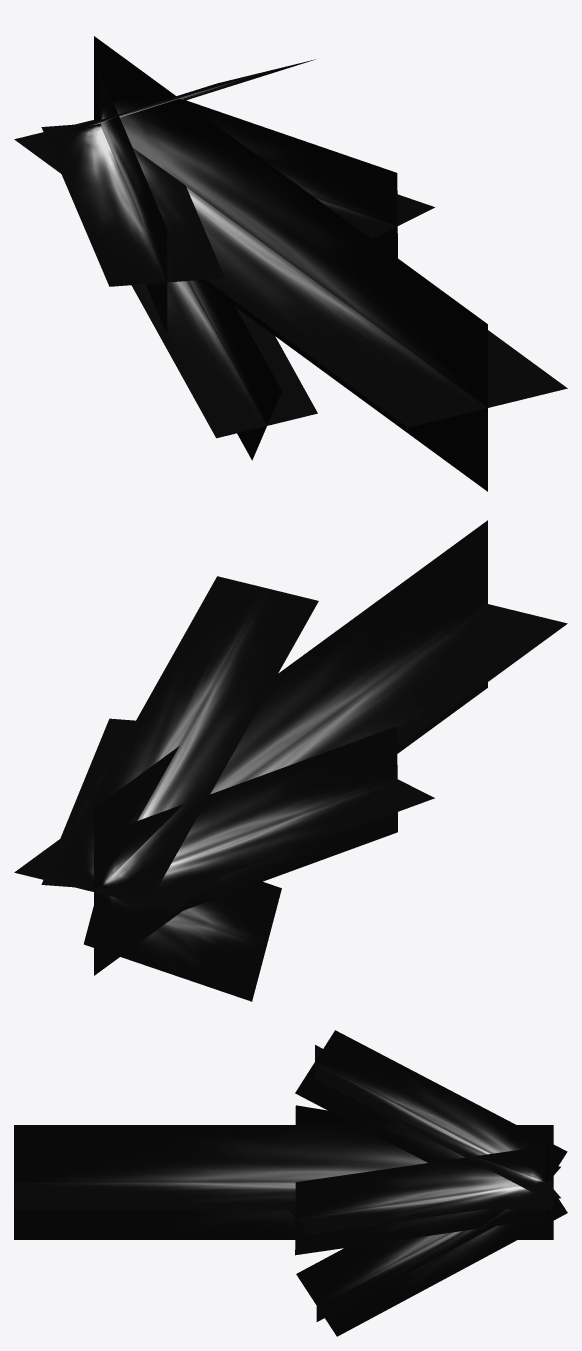
Rendered from Bullet_3_Mesh.FBX.
3 views of the same model, one above another, from view 1: azimuth 30°, elevation 25°; view 2: azimuth 150°, elevation 25°; view 3: azimuth 270°, elevation 25° (orthographic). The views are drawn at different scales.
Parts seen in each view (by area): view 1: Bullet_3_Mesh; view 2: Bullet_3_Mesh; view 3: Bullet_3_Mesh.
Part boxes in pixels (x1,y1,x2,y2): Bullet_3_Mesh: (14,36,567,491); Bullet_3_Mesh: (14,520,567,1001); Bullet_3_Mesh: (14,1030,567,1336).
Bounding box in the file's own units: 72.86 × 95.6 × 156.
